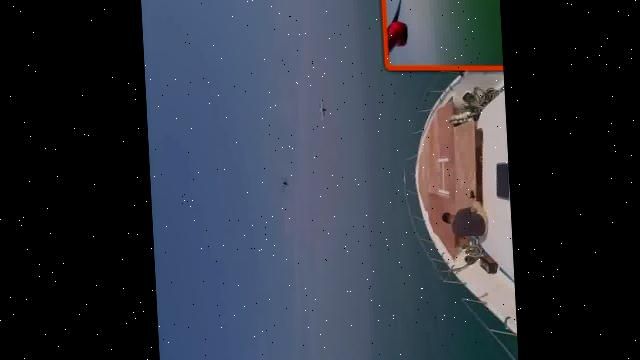drone: (308, 100, 332, 128), (271, 172, 288, 196)
